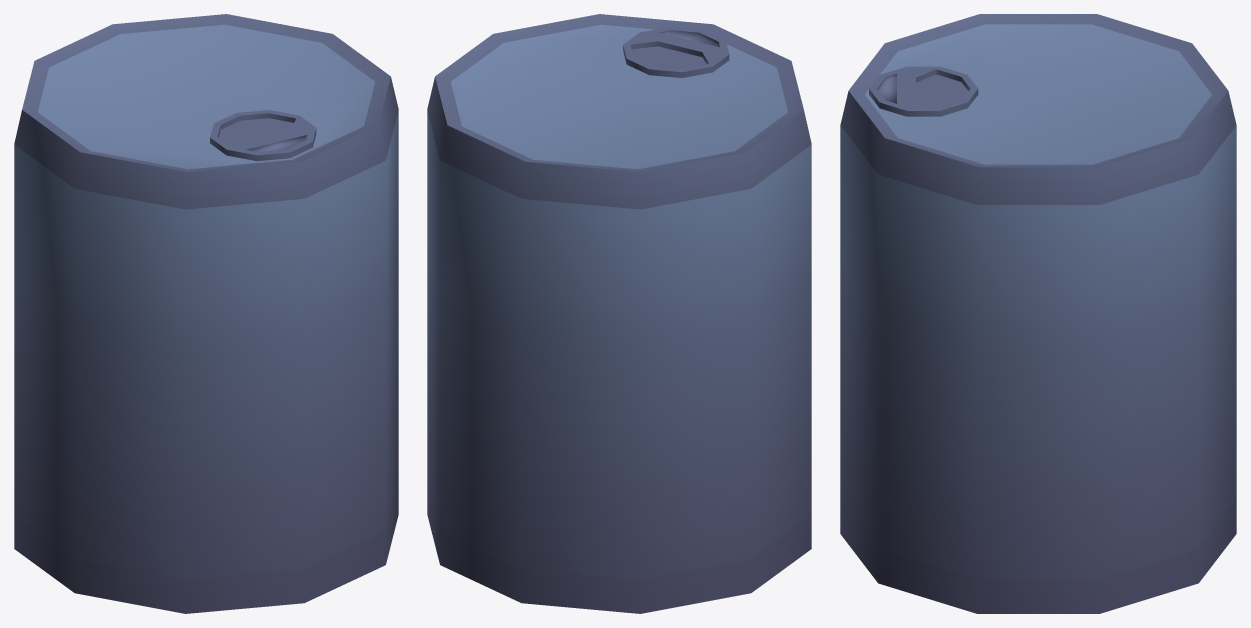
Rendered from can_food_blue.fbx.
3 views of the same model, side by side, from view 1: azimuth 30°, elevation 25°; view 2: azimuth 150°, elevation 25°; view 3: azimuth 270°, elevation 25° (orthographic).
Parts seen in each view (by area): view 1: can_food_blue; view 2: can_food_blue; view 3: can_food_blue.
Boxes of the visible parts, x1,y1,x2,y2 form: can_food_blue: (14,14,398,613); can_food_blue: (427,14,811,613); can_food_blue: (840,14,1236,613).
Size of the model in its own units: 104 by 135 by 109.
